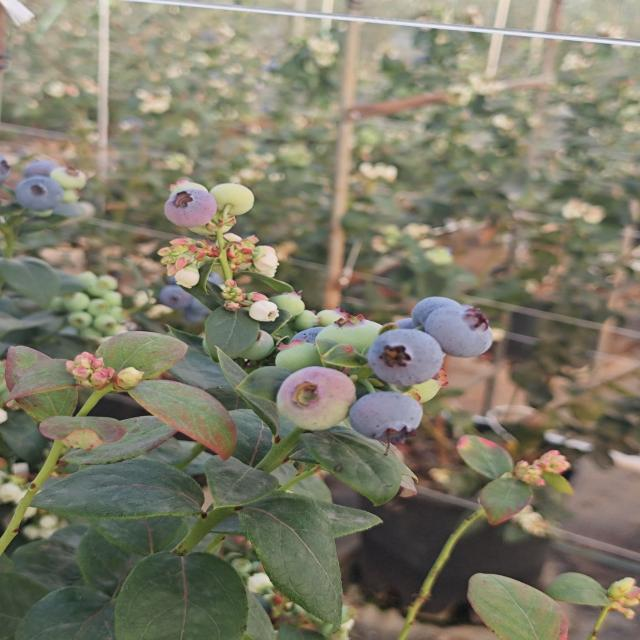ripe: (422, 303, 498, 359), (354, 387, 422, 438), (379, 335, 446, 384), (406, 292, 472, 332), (278, 323, 344, 360), (155, 277, 206, 323), (12, 174, 62, 218)
